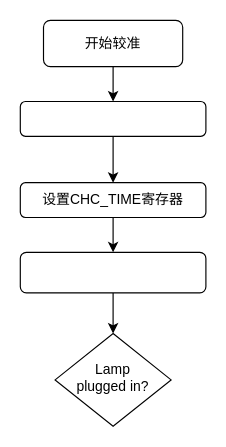
This 226x447 diagram has some shape labels left out. The box of each missing label's shape, as (x1, y1, x2, y2) in pixels:
CHC_TIME初始值为0x800: (19, 100, 206, 136)
检查线圈状态标志: (19, 251, 206, 293)
